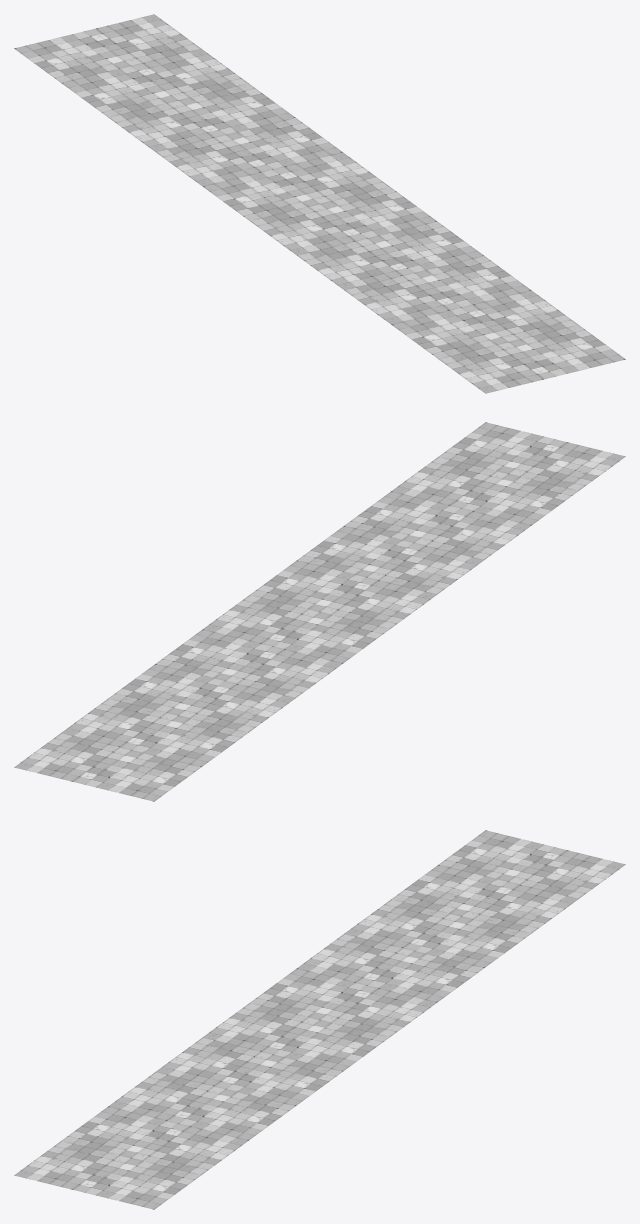
Rendered from Tile01.fbx.
3 views of the same model, one above another, from view 1: azimuth 30°, elevation 25°; view 2: azimuth 150°, elevation 25°; view 3: azimuth 330°, elevation 25° (orthographic).
Parts seen in each view (by area): view 1: Cube.011; view 2: Cube.011; view 3: Cube.011.
Boxes of the visible parts, x1,y1,x2,y2 form: Cube.011: (14,14,625,393); Cube.011: (14,422,625,801); Cube.011: (14,830,625,1209).
Size of the model in its own units: 707 by 0.00031 by 4112.
